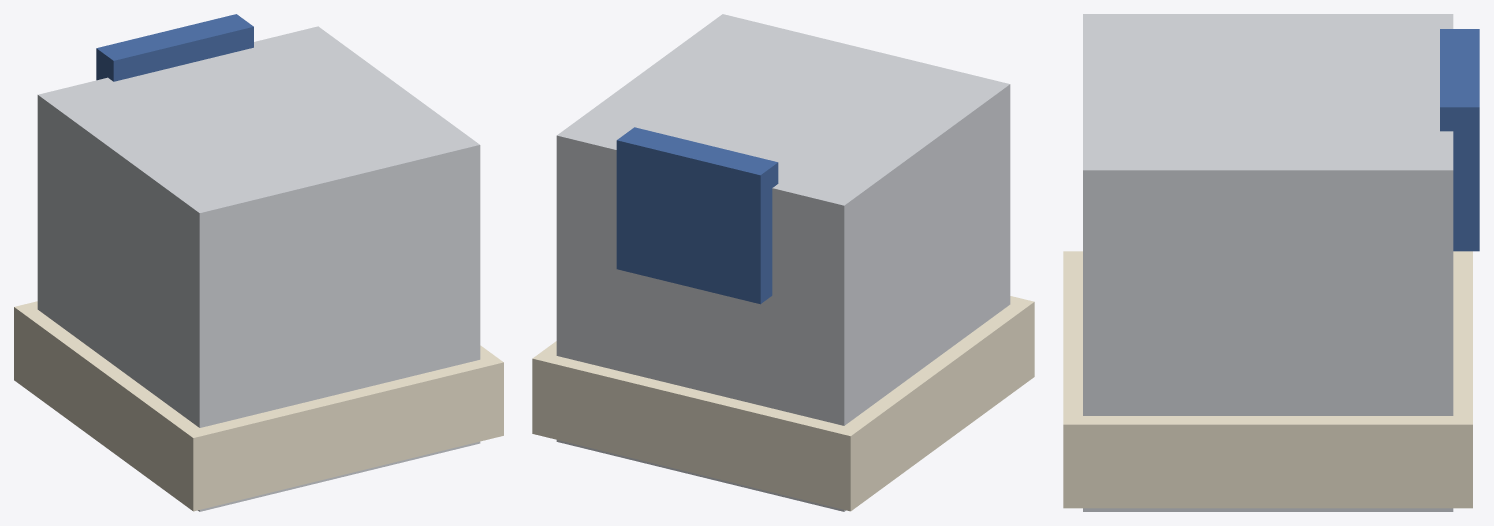
Rendered from polar_canela.glb.
The picture shows the model from 3 angles, left to right: view 1: azimuth 30°, elevation 25°; view 2: azimuth 150°, elevation 25°; view 3: azimuth 270°, elevation 25°; orthographic projection. The views are drawn at different scales.
Parts seen in each view (by area): view 1: polar_canela; view 2: polar_canela; view 3: polar_canela.
Boxes of the visible parts, left/top/right/bottom form: polar_canela: left=14, top=14, right=503, bottom=511; polar_canela: left=532, top=14, right=1034, bottom=511; polar_canela: left=1063, top=14, right=1479, bottom=511.
Bounding box in the file's own units: 0.31 × 0.305 × 0.315.
